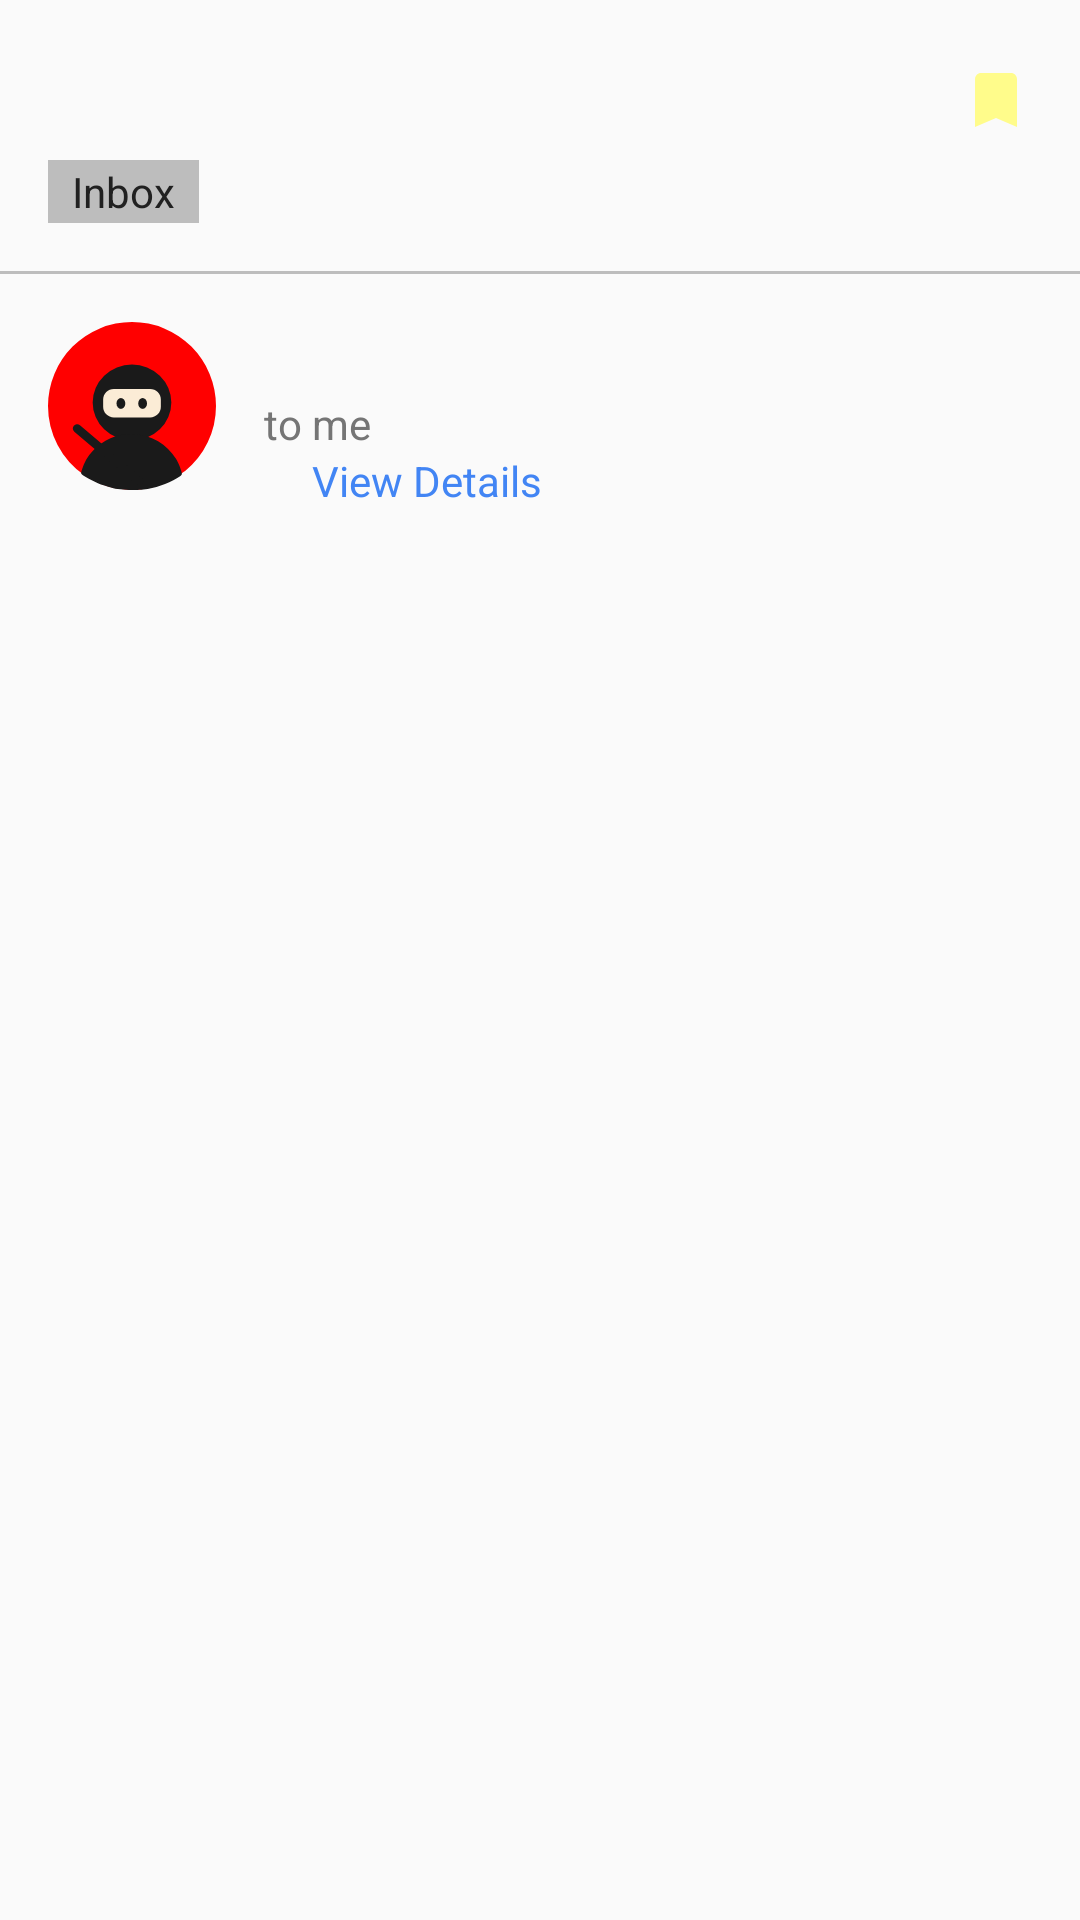

Locate icon controls on the screen. Image size 1080w x 1920h, boxes as (x1=x1, y1=y1, x2=x2, y2=y2).
bookmark: (x1=975, y1=73, x2=1017, y2=127)
profile: (x1=48, y1=322, x2=216, y2=490)
